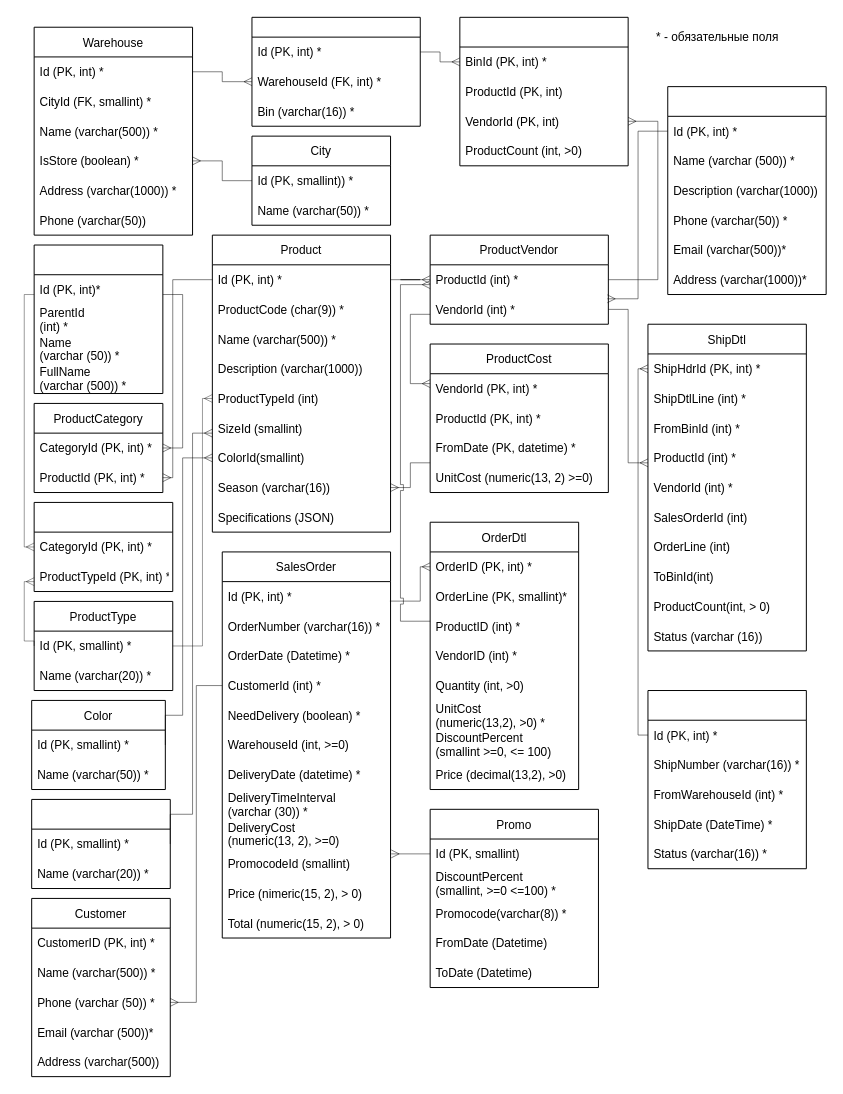
Image size: 843x1094. Some labels were removed from this diagram. Each missing label, with the box of its shape:
Category: (33, 244, 163, 394)
ProductBin: (459, 16, 628, 166)
ProductSize: (31, 798, 170, 889)
ProductTypeCategory: (33, 501, 173, 592)
ShipHdr: (647, 690, 806, 869)
Vendor: (667, 86, 826, 295)
WarehouseBin: (251, 16, 420, 126)
